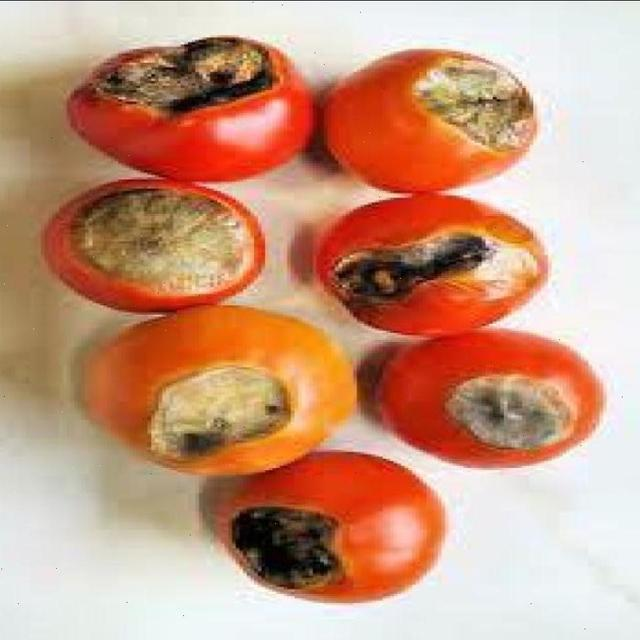Blossom End Rot Fruit: (84, 50, 343, 365)
